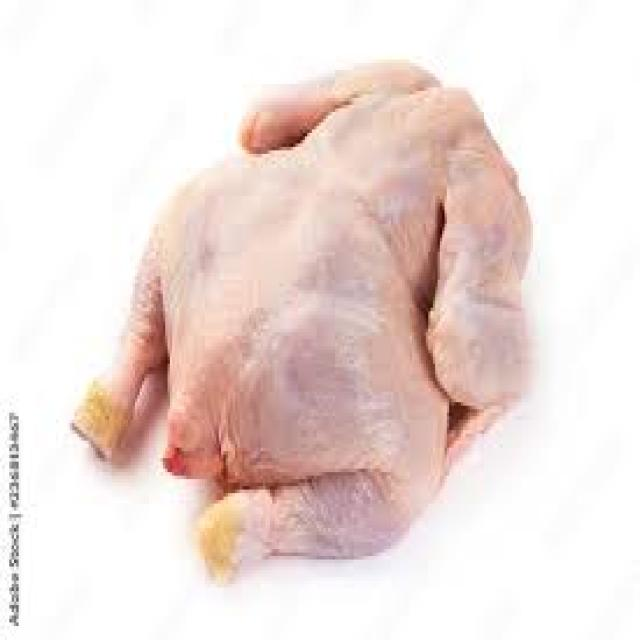Chicken: (71, 57, 536, 586)
